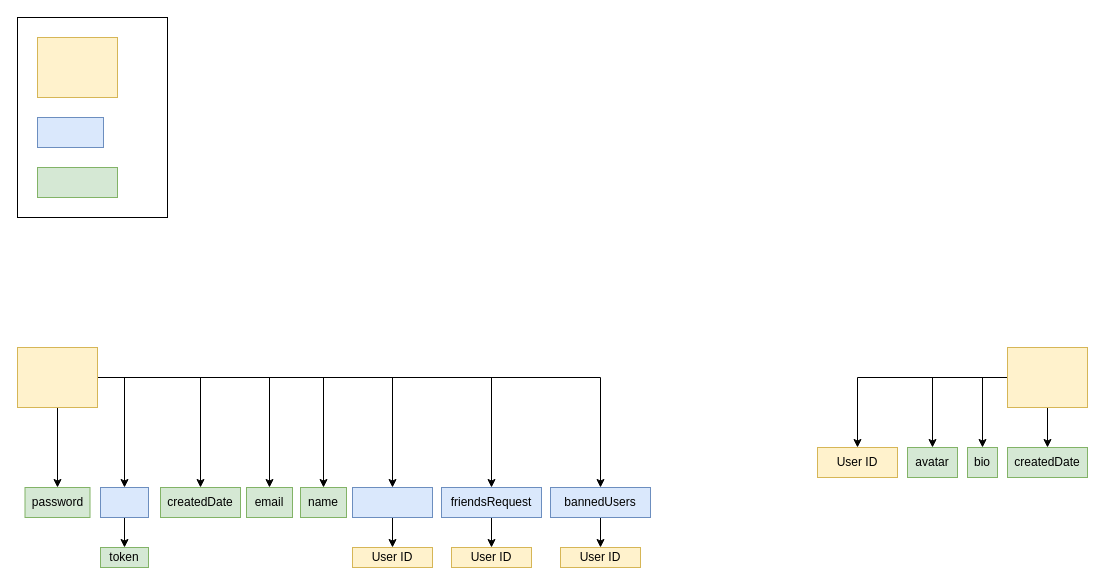
Some shapes in this 1105 by 585 pixel diagram are drawn without their labels. Here are the shapes that lost their labels. From the top down, the centre of each, then its label:
(x=77, y=67): Schema or ObjectId
(x=70, y=132): Array
(x=77, y=182): Field
(x=57, y=377): User
(x=1047, y=377): Profile
(x=124, y=502): tokens
(x=392, y=502): friends
